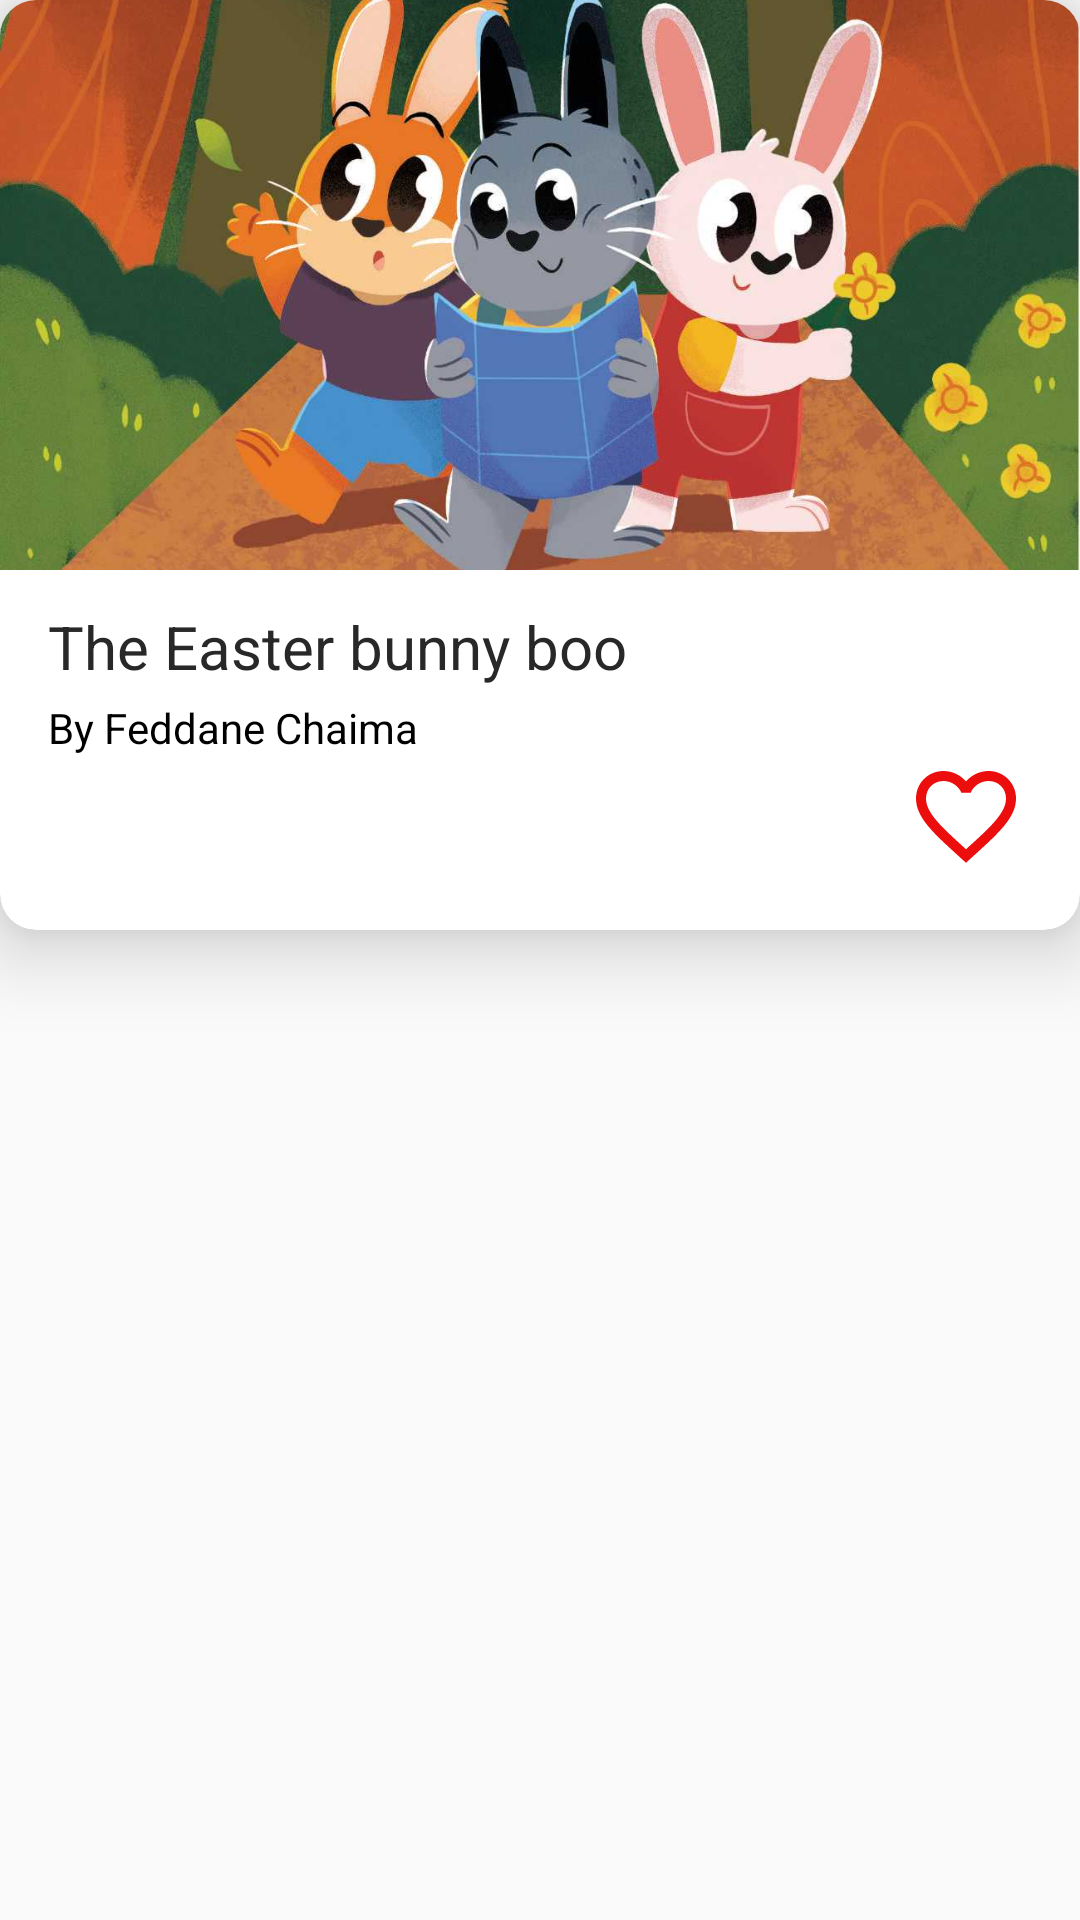

Where to tap for icons on this 1080x1920 app screen, as point (x, y):
favorite border: point (966, 817)
